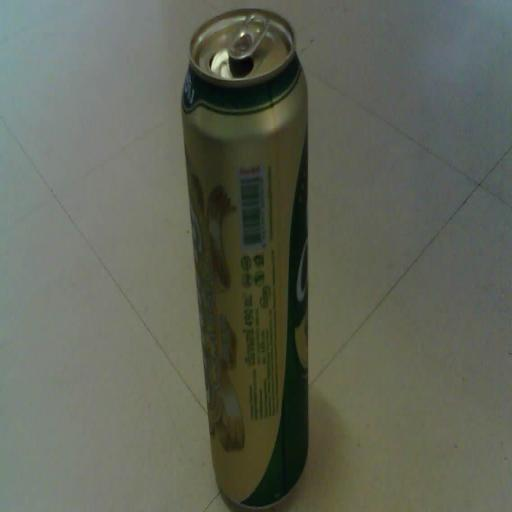canned: (180, 1, 324, 499)
